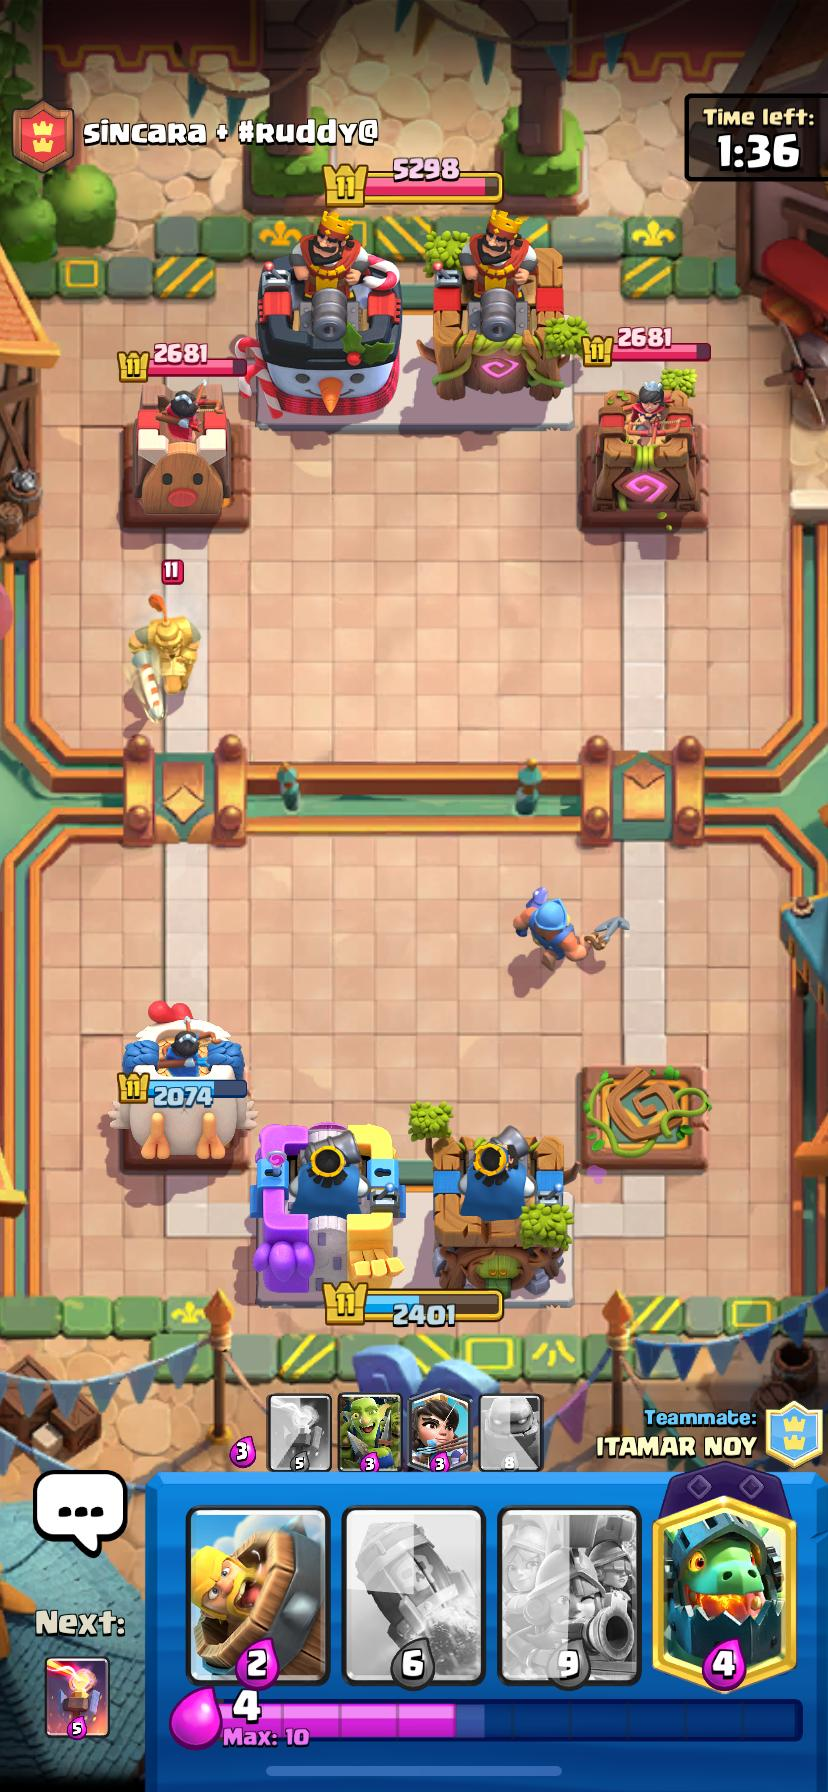EKingTower: (253, 211, 401, 424), (419, 213, 565, 400)
EPrince: (128, 594, 199, 723)
EnemyPrincessTower: (124, 383, 250, 527), (579, 386, 706, 529)
OFisherman: (513, 887, 628, 969)
OwnKingTower: (250, 1123, 405, 1299), (433, 1127, 572, 1293)
OwnPrincessTower: (109, 1001, 255, 1161)
TowerDown: (579, 1065, 709, 1170)
